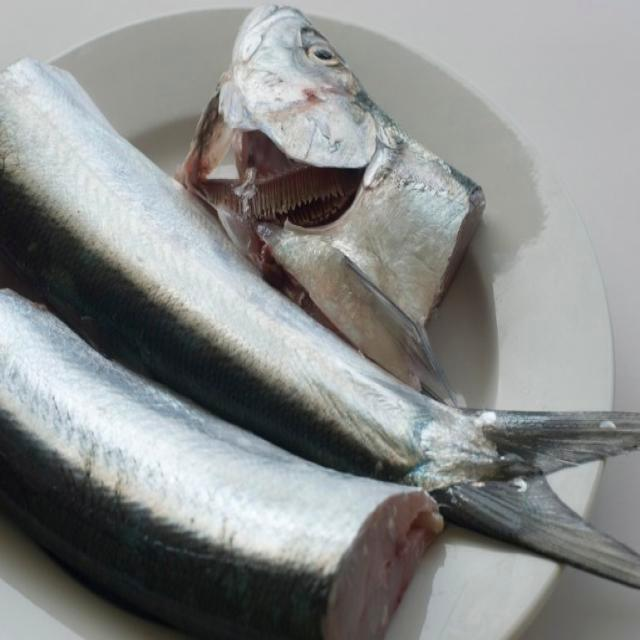fish: (0, 59, 638, 587), (0, 290, 433, 638), (179, 6, 483, 402)
